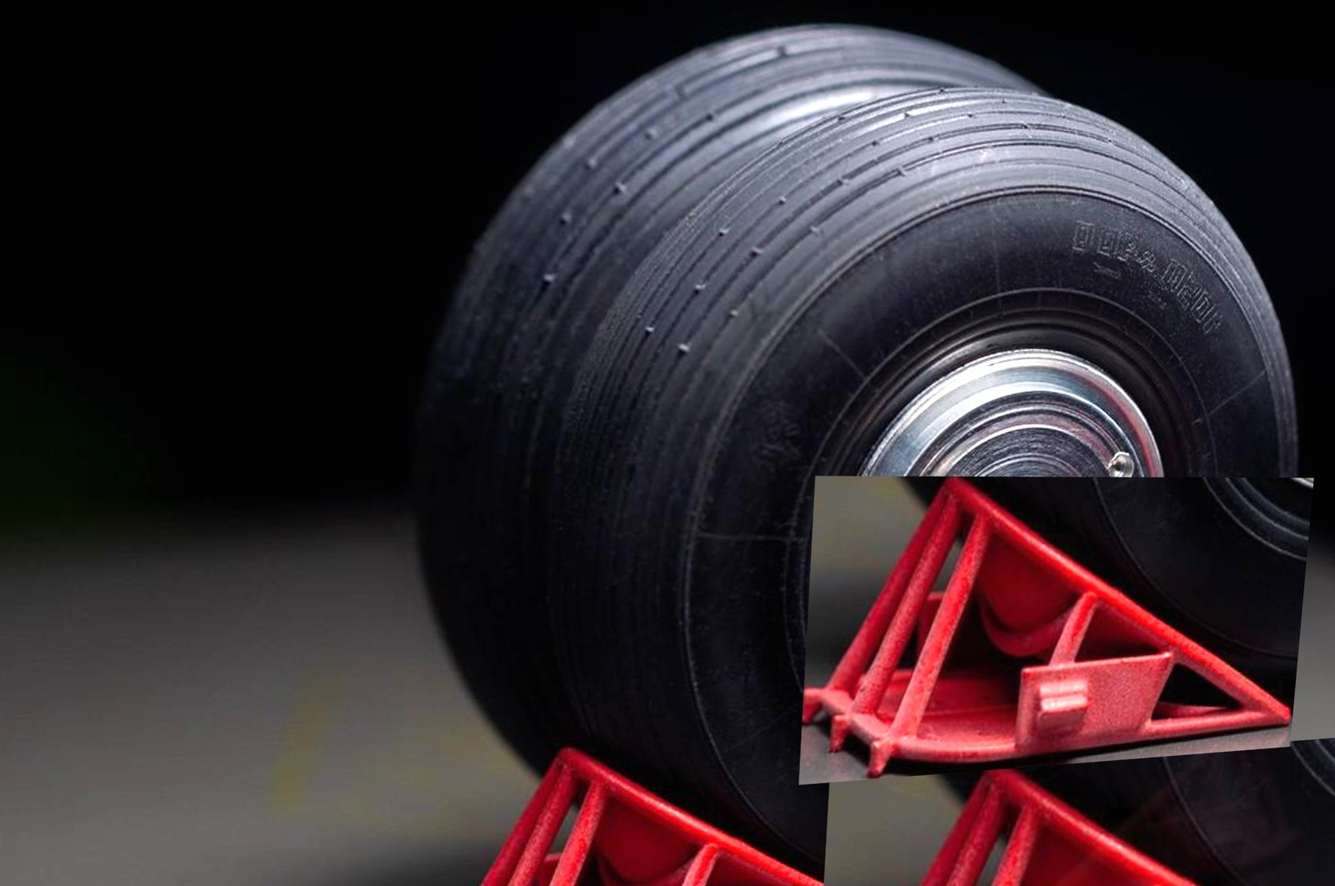chock: (799, 476, 1314, 785), (419, 725, 937, 886), (809, 732, 1335, 886), (1007, 679, 1318, 886)
wheel: (522, 36, 1331, 886), (407, 0, 1122, 886)
